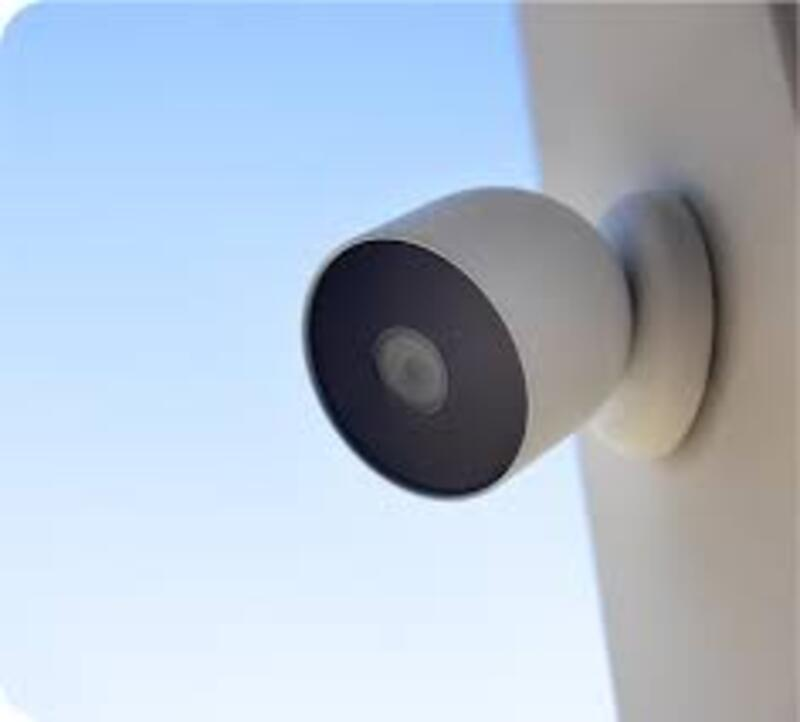nest: (281, 176, 641, 498)
